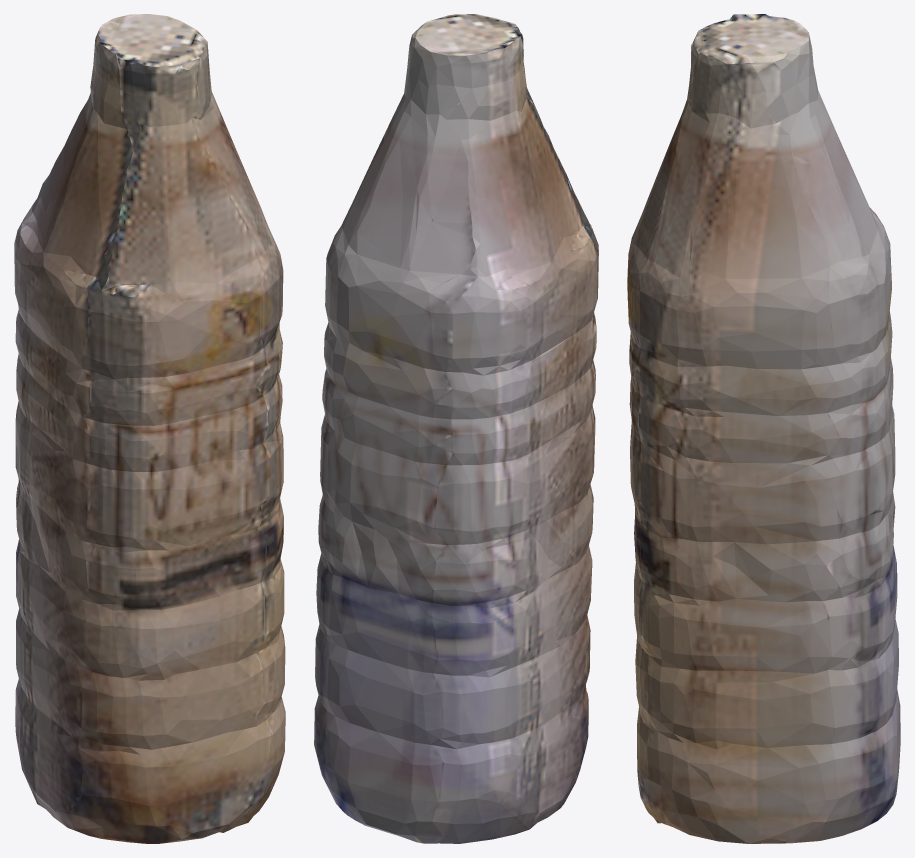
3 views of the same model, side by side, from view 1: azimuth 30°, elevation 25°; view 2: azimuth 150°, elevation 25°; view 3: azimuth 270°, elevation 25° (orthographic).
Visible parts, largest first — view 1: remeshed.obj; view 2: remeshed.obj; view 3: remeshed.obj.
Boxes of the visible parts, x1=… form: remeshed.obj: x1=14, y1=14, x2=285, y2=843; remeshed.obj: x1=314, y1=14, x2=598, y2=843; remeshed.obj: x1=627, y1=14, x2=900, y2=843.
Size of the model in its own units: 0.06 by 0.2015 by 0.0651.
1 material, 1 textured.
